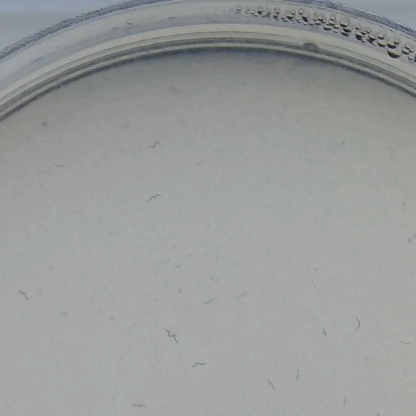worm: (187, 357, 221, 378), (262, 372, 282, 401), (135, 184, 164, 204), (162, 326, 186, 349), (348, 312, 370, 336), (293, 363, 309, 393), (138, 135, 168, 151), (17, 284, 35, 310), (230, 284, 252, 304), (201, 290, 219, 314), (132, 395, 153, 414), (402, 333, 416, 356), (318, 323, 335, 339), (339, 395, 351, 416)
